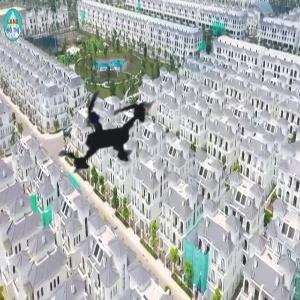drone: (16, 45, 201, 230)
